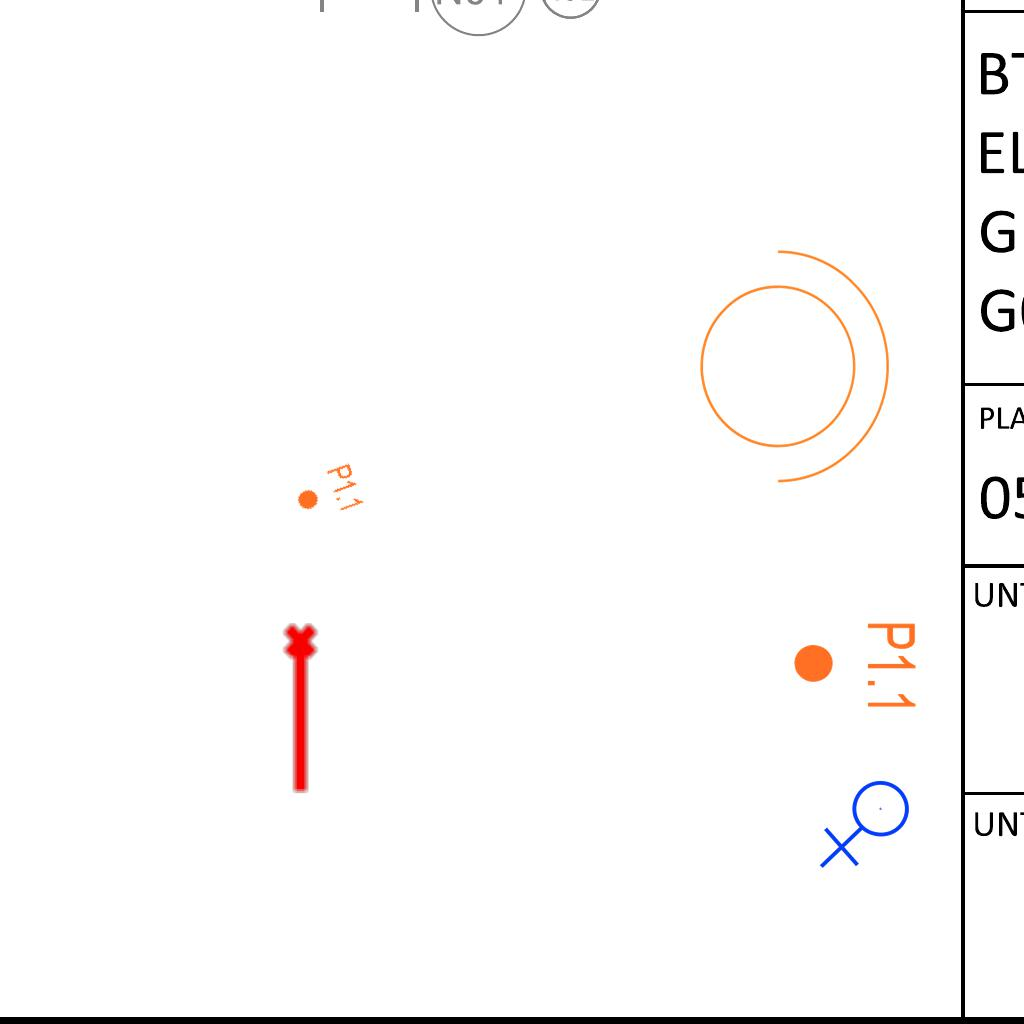ASR_Ansaugoeffnung: (280, 621, 326, 797)
Downlight_LED_Einbauleuchten_Flur: (791, 620, 919, 713), (290, 461, 366, 527)
Elektroanschluss_allgemein_230V_Geraeteanschlussdose_230V: (819, 779, 918, 873)
Scheinwerfer_fuer_Alarmbeleuchtung: (675, 228, 900, 492)
